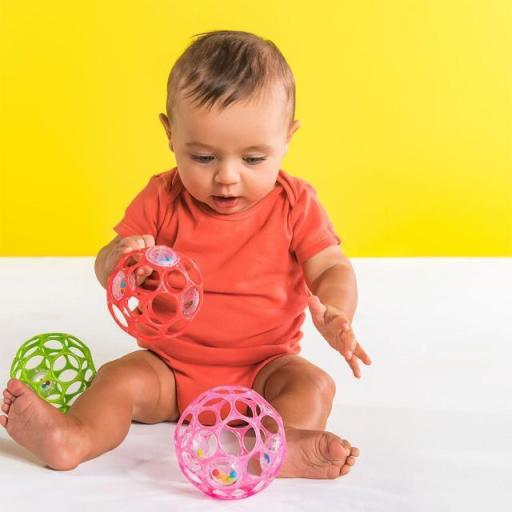baby: (0, 29, 371, 480)
